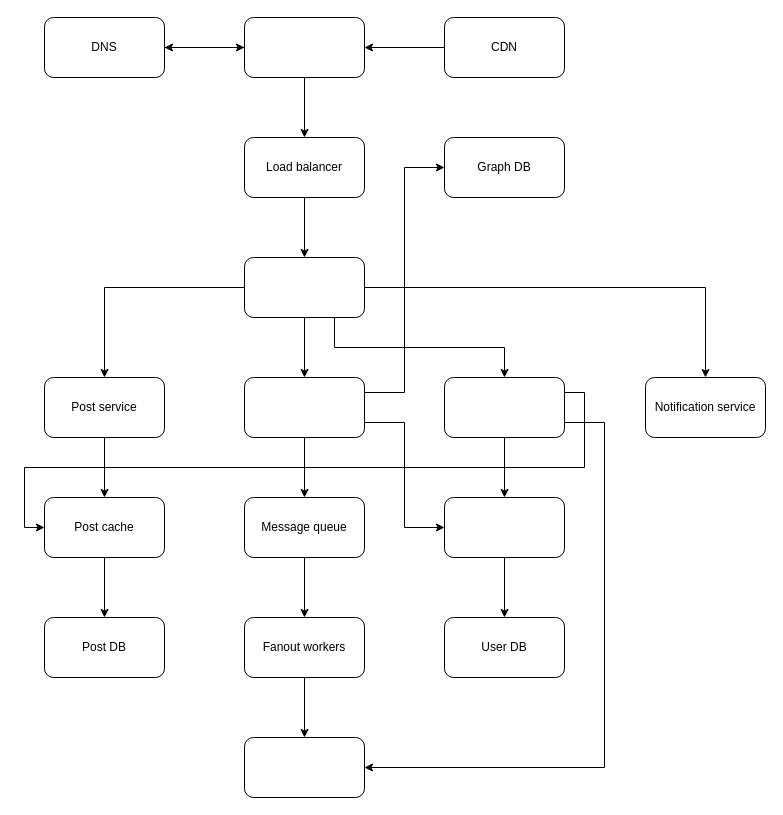
Image size: 783x815. Some labels were removed from this diagram. Each missing label, with the centre of its shape:
"Fanout service" belongs at pixel 304 407.
"Newsfeed cache" belongs at pixel 304 767.
"Newsfeed service" belongs at pixel 504 407.
"User" belongs at pixel 304 47.
"User cache" belongs at pixel 504 527.
"Web servers" belongs at pixel 304 287.
